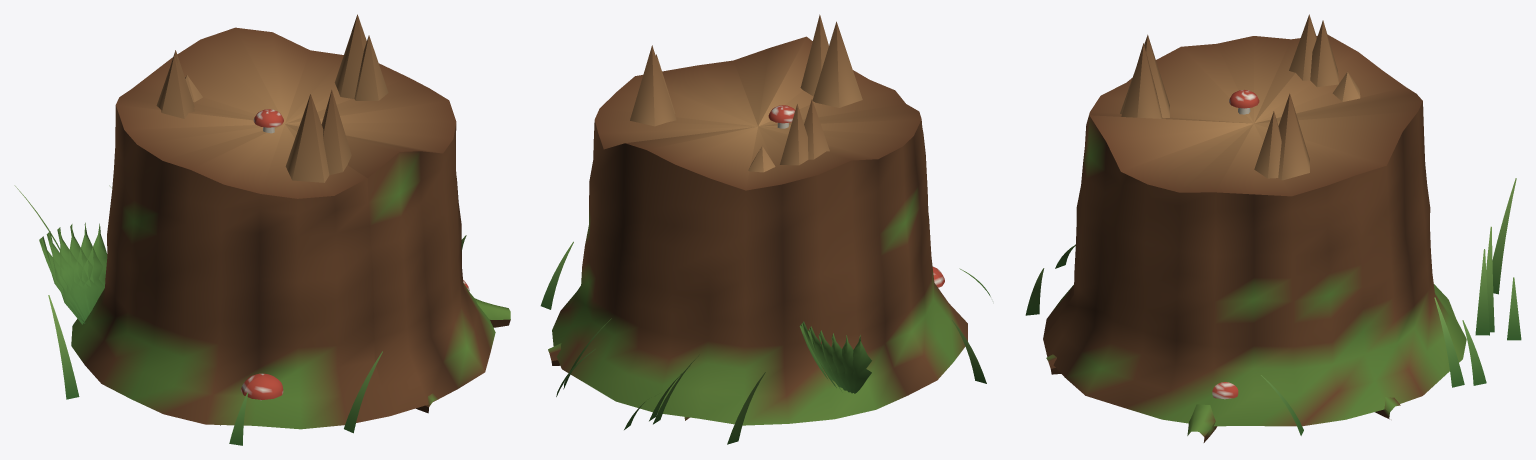
File: tocon_grande.glb
3 views of the same model, side by side, from view 1: azimuth 30°, elevation 25°; view 2: azimuth 150°, elevation 25°; view 3: azimuth 270°, elevation 25° (orthographic). The views are drawn at different scales.
Visible parts, largest first — view 1: tocon_grande_malla; view 2: tocon_grande_malla; view 3: tocon_grande_malla.
Boxes of the visible parts, x1=… form: tocon_grande_malla: x1=14, y1=14, x2=510, y2=445; tocon_grande_malla: x1=540, y1=14, x2=990, y2=444; tocon_grande_malla: x1=1025, y1=14, x2=1521, y2=442.
Bounding box in the file's own units: 1.01 × 0.6943 × 1.02.
